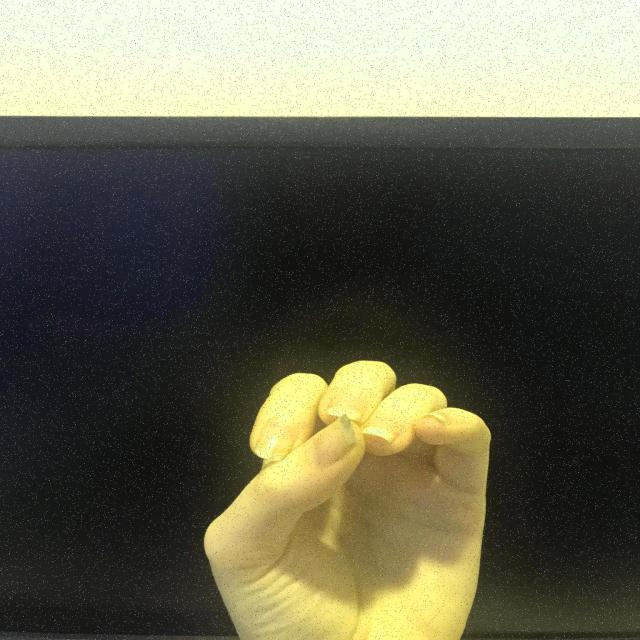O: (198, 355, 501, 640)
